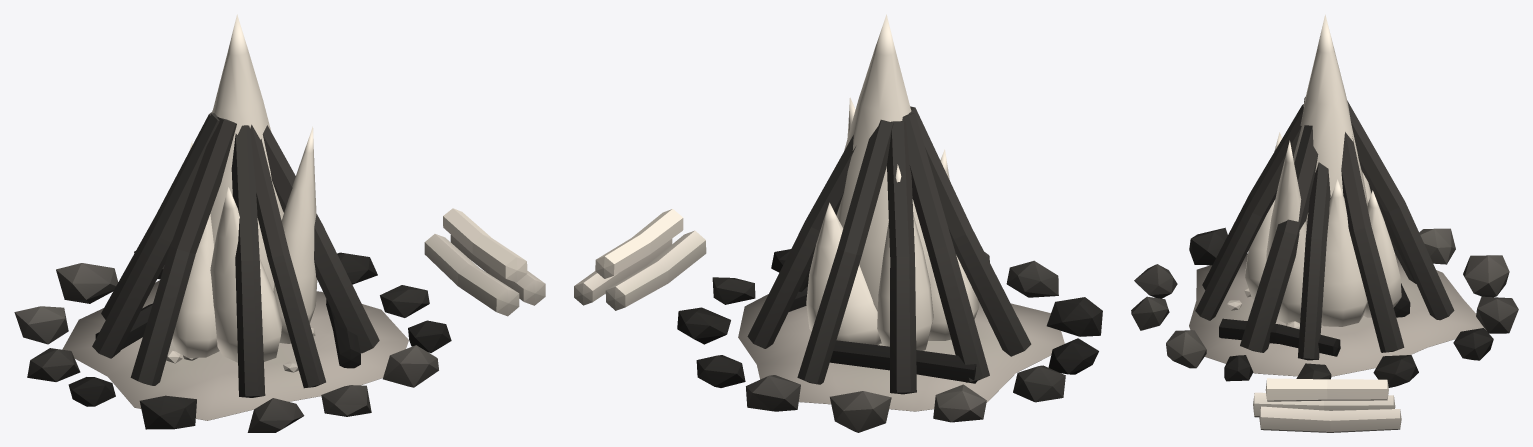
File: SM_VKI_Prop_Goblin_Bonfire.fbx
3 views of the same model, side by side, from view 1: azimuth 30°, elevation 25°; view 2: azimuth 150°, elevation 25°; view 3: azimuth 270°, elevation 25° (orthographic). The views are drawn at different scales.
Visible parts, largest first — view 1: SM_VKI_Prop_Goblin_Bonfire.001; view 2: SM_VKI_Prop_Goblin_Bonfire.001; view 3: SM_VKI_Prop_Goblin_Bonfire.001.
Boxes of the visible parts, x1=… form: SM_VKI_Prop_Goblin_Bonfire.001: x1=14, y1=14, x2=545, y2=432; SM_VKI_Prop_Goblin_Bonfire.001: x1=574, y1=14, x2=1102, y2=432; SM_VKI_Prop_Goblin_Bonfire.001: x1=1131, y1=14, x2=1518, y2=432.
Bounding box in the file's own units: 3.89 × 2.71 × 3.06.
